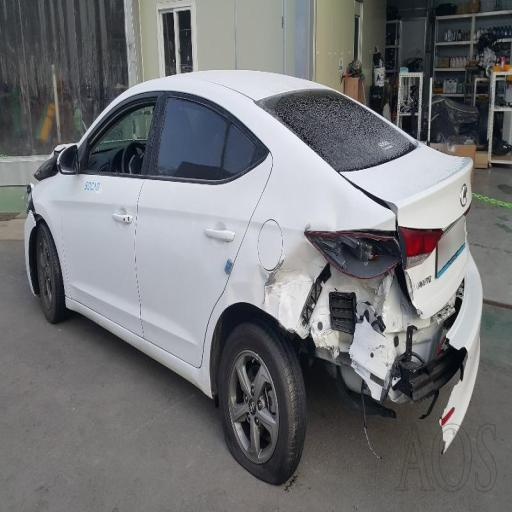broken: (248, 160, 492, 483)
